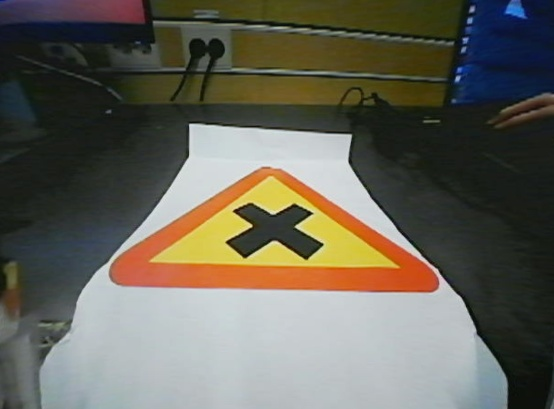junction: (98, 145, 446, 295)
